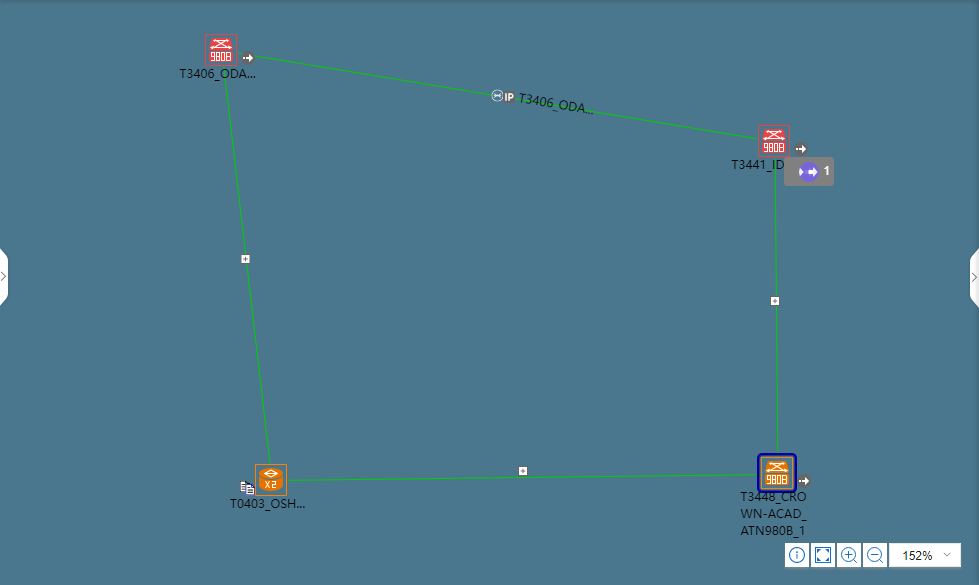ATN_Orange: (762, 461, 797, 488)
ATN_Red: (756, 124, 791, 159), (205, 39, 234, 68)
Link_Green: (242, 51, 760, 140), (223, 84, 277, 459), (291, 473, 694, 484), (774, 332, 785, 453)
Router_Orange: (260, 467, 289, 496)
